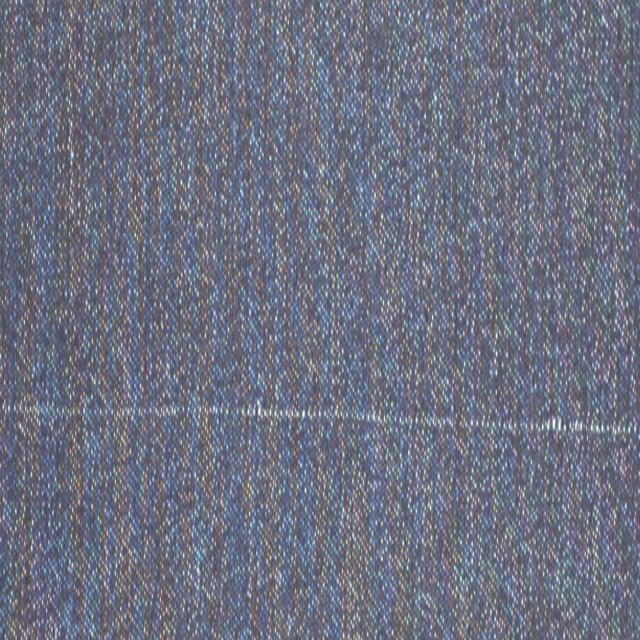Warp_Weft: (2, 398, 640, 442)
